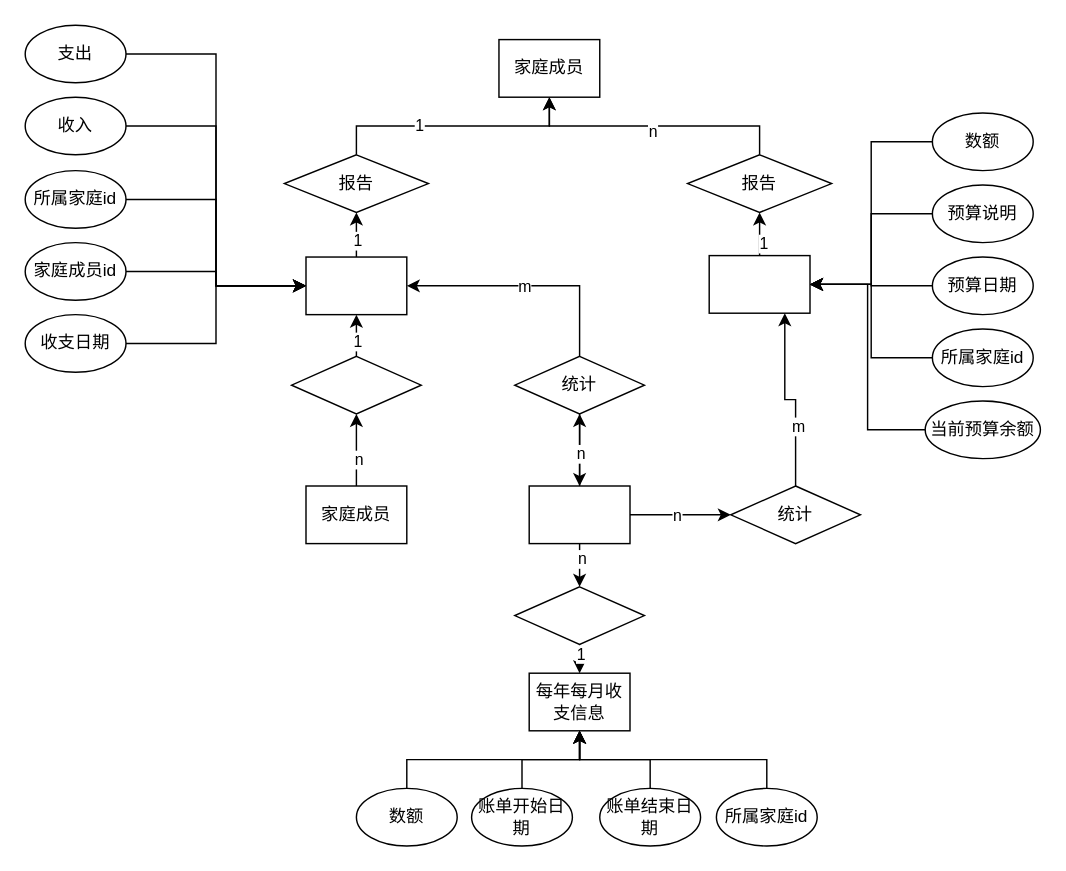
Image size: 1066x871. Some labels were removed from this diagram. The shapes that lost their labels are listed below. From the top down, each one's centre as x and y in pixels, then its label:
the point at 356,285: 成员个人收支信息
the point at 759,283: 家庭月度预算信息
the point at 355,384: 筛选
the point at 579,514: 账单信息
the point at 578,614: 记录
